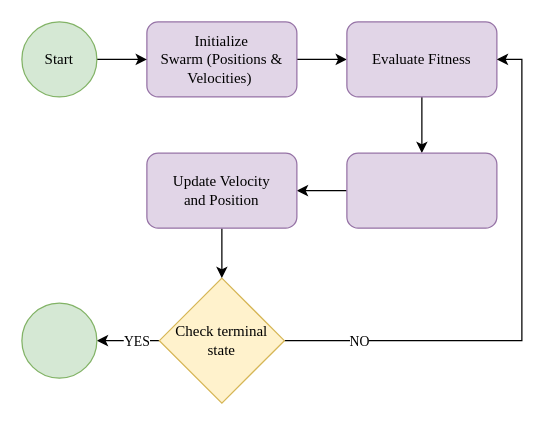
The diagram is 554 pixels wide and 425 high, and some of its shapes have lost their labels. Here are the shapes that lost their labels. From the top down, the box of each, then its label:
(346, 152, 497, 228): Update pbest for each particle & gbest of all
(21, 302, 97, 378): End
